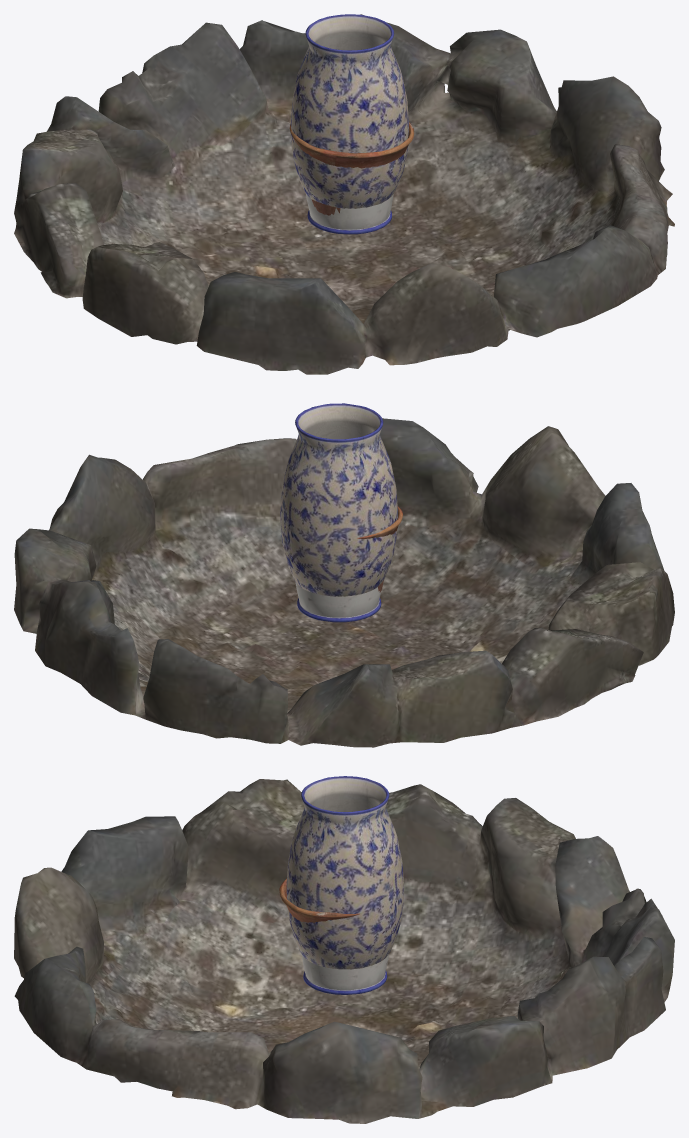
Rendered from temple-props.glb.
3 renders of one model, top to bottom at view 1: azimuth 30°, elevation 25°; view 2: azimuth 150°, elevation 25°; view 3: azimuth 270°, elevation 25°, orthographic.
Visible parts, largest first — view 1: stone_fire_pit, antique_ceramic_vase_01, planter_pot_clay, ceramic_vase_02; view 2: stone_fire_pit, antique_ceramic_vase_01, ceramic_vase_02; view 3: stone_fire_pit, antique_ceramic_vase_01, ceramic_vase_02, planter_pot_clay.
Boxes of the visible parts, x1,y1,x2,y2 form: stone_fire_pit: [14, 14, 674, 374]; antique_ceramic_vase_01: [290, 14, 408, 234]; planter_pot_clay: [289, 122, 414, 215]; ceramic_vase_02: [305, 193, 393, 229]; stone_fire_pit: [14, 418, 674, 747]; antique_ceramic_vase_01: [280, 403, 397, 622]; ceramic_vase_02: [295, 581, 381, 617]; stone_fire_pit: [14, 779, 674, 1123]; antique_ceramic_vase_01: [286, 776, 403, 994]; ceramic_vase_02: [301, 954, 388, 990]; planter_pot_clay: [279, 878, 359, 922].
Size of the model in its own units: 1.45 by 0.6329 by 1.43.
Materials: 7 (7 with a texture image).
